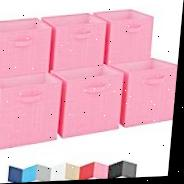cube: (52, 65, 128, 137), (0, 74, 67, 149), (111, 60, 179, 127), (42, 14, 112, 68), (95, 10, 163, 63), (0, 17, 55, 79)
